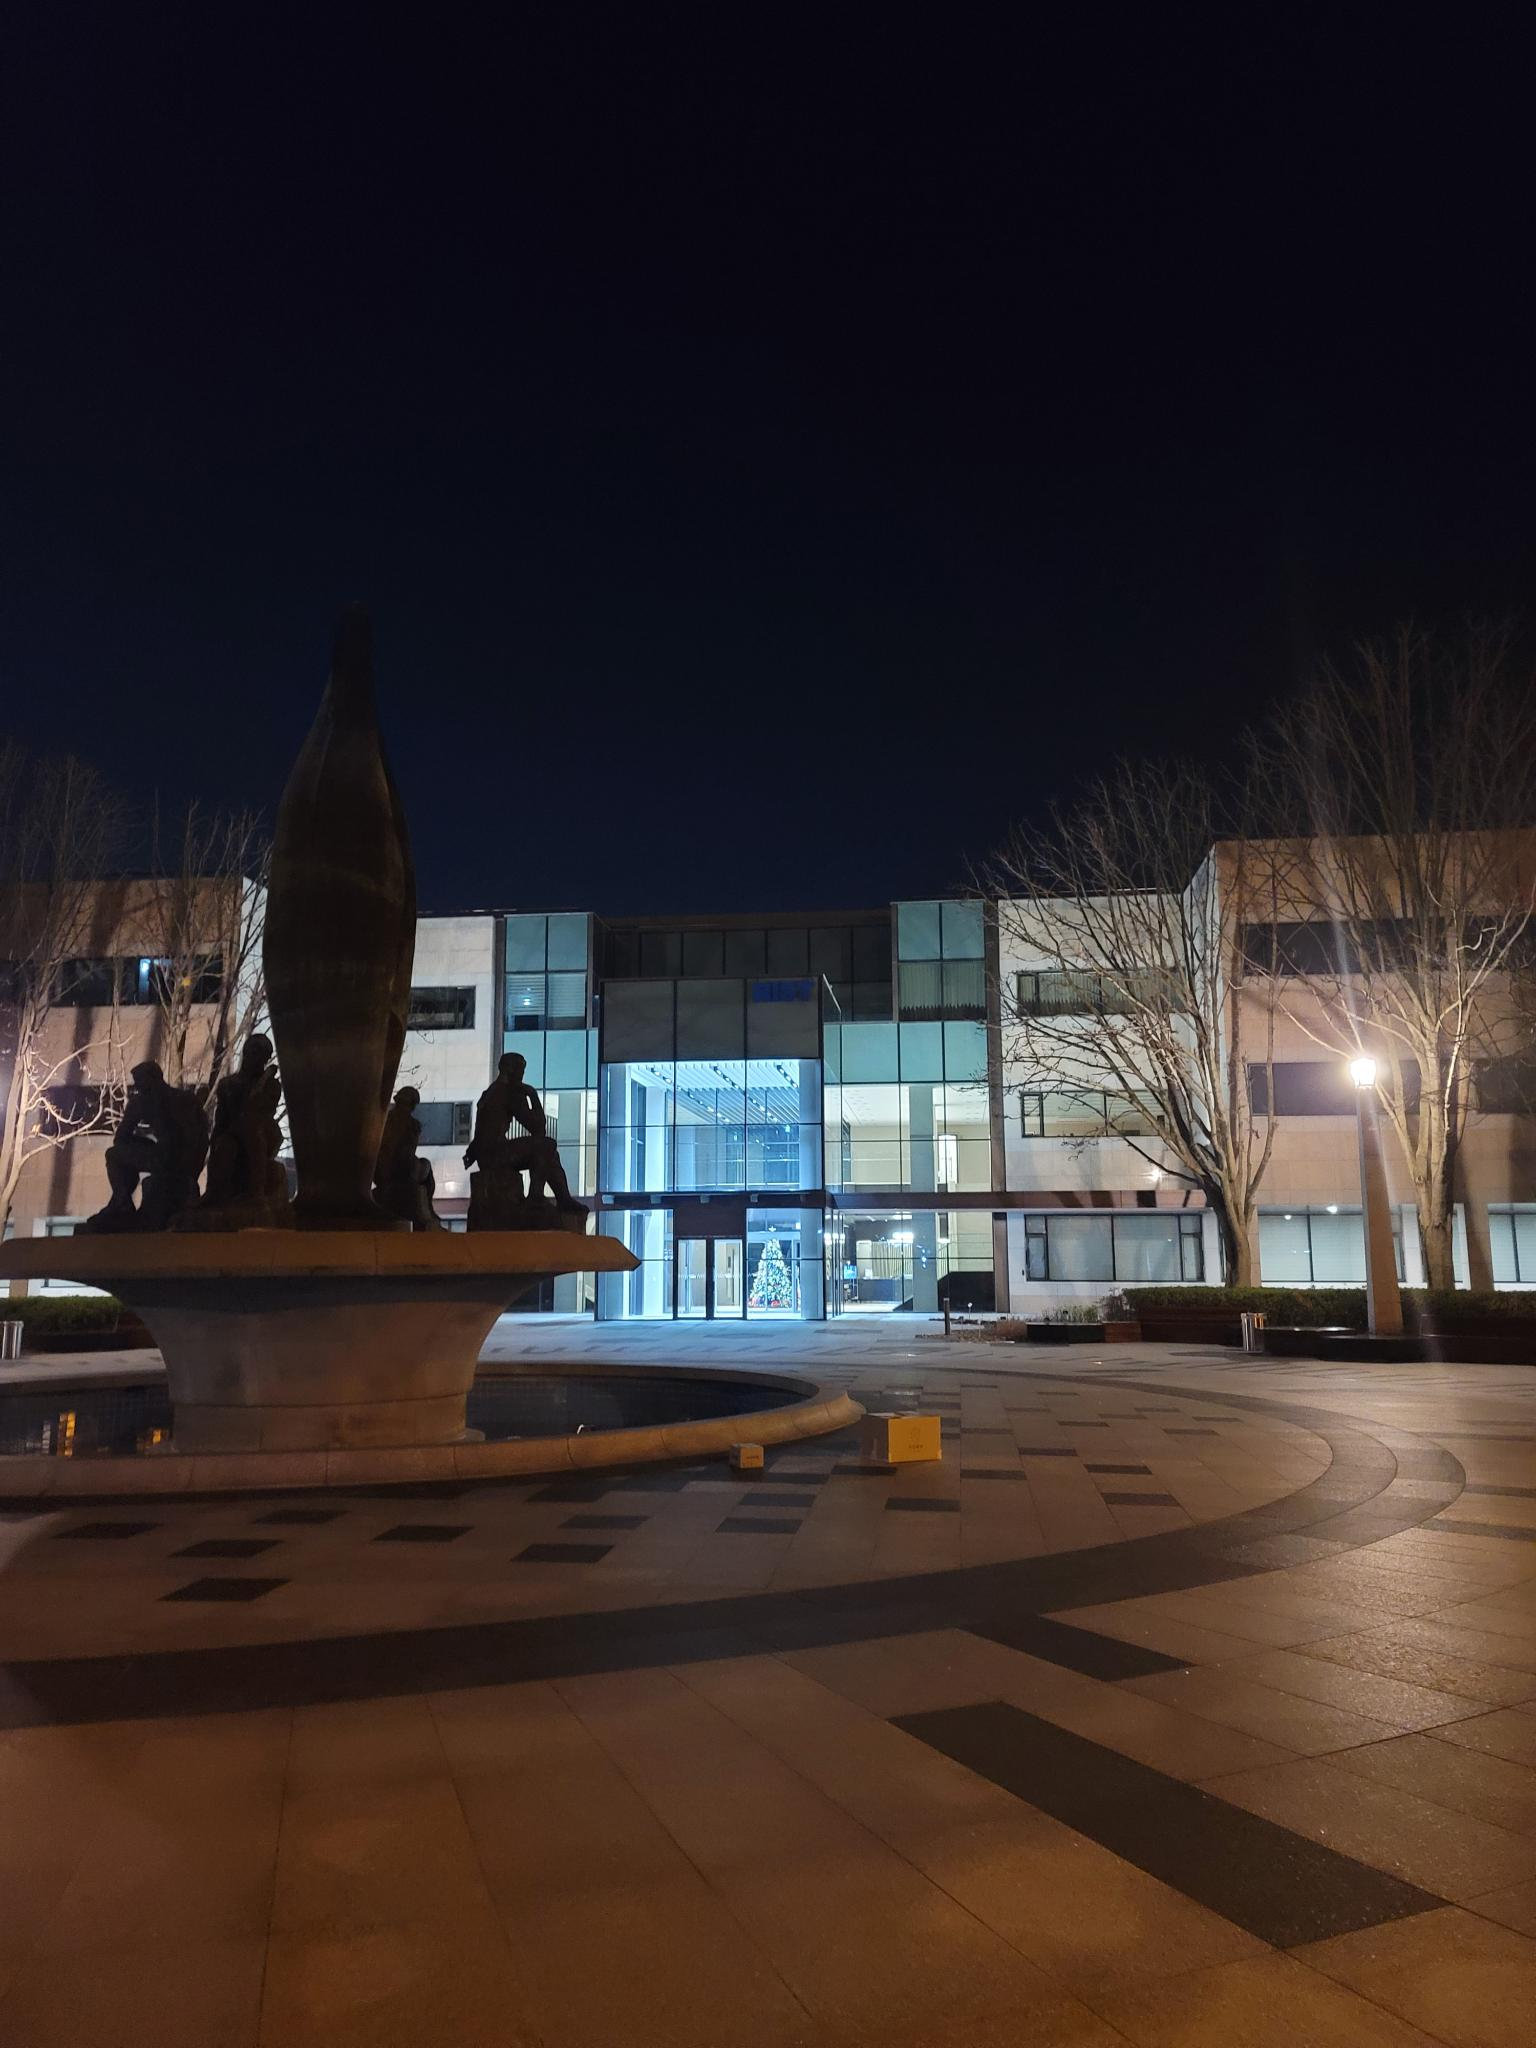Box: (862, 1406, 950, 1466), (726, 1432, 768, 1472)
